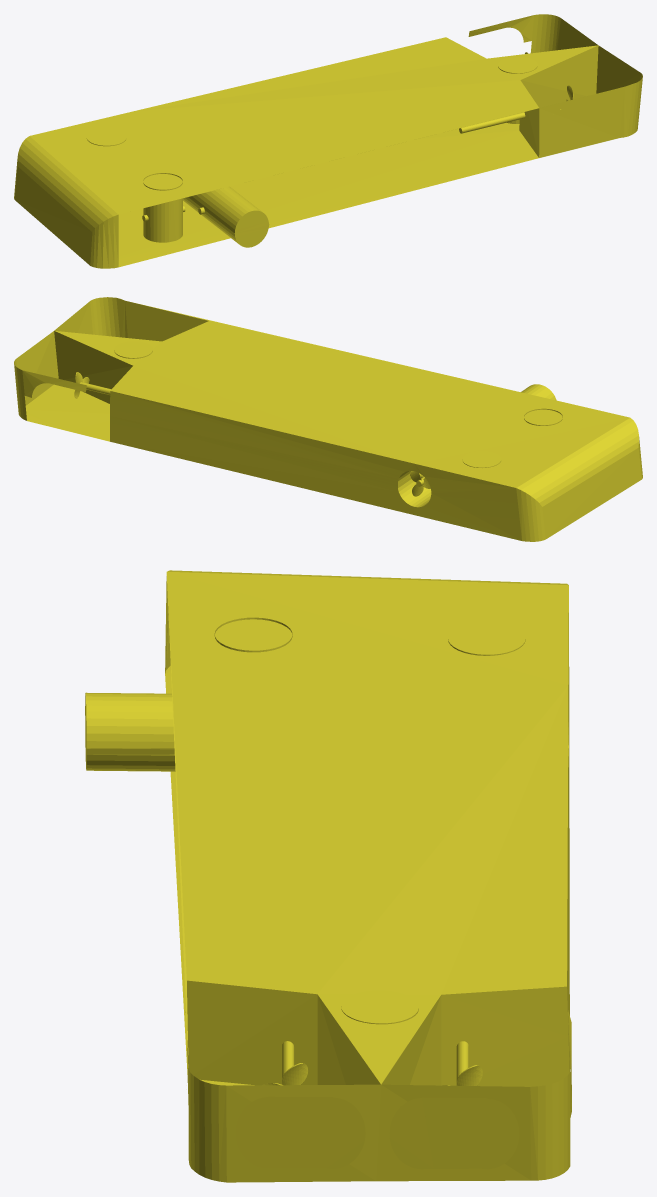
Rendered from SUBMERSIBLE_.dae.
3 views of the same model, one above another, from view 1: azimuth 30°, elevation 25°; view 2: azimuth 150°, elevation 25°; view 3: azimuth 270°, elevation 25° (orthographic). The views are drawn at different scales.
Visible parts, largest first — view 1: Cylinder.009; view 2: Cylinder.009; view 3: Cylinder.009.
Boxes of the visible parts, x1,y1,x2,y2 form: Cylinder.009: (14, 14, 642, 268); Cylinder.009: (14, 297, 642, 541); Cylinder.009: (85, 570, 571, 1182).
Bounding box in the file's own units: 2.65 × 1.03 × 0.2491.
